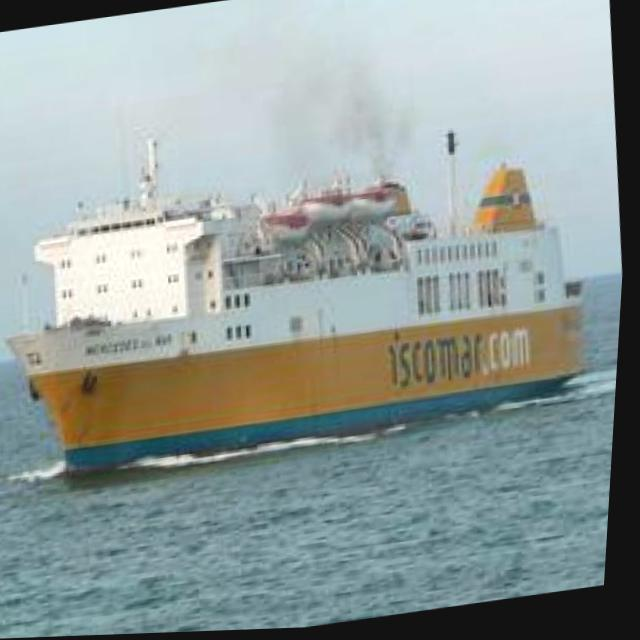ship2: (5, 133, 594, 481)
